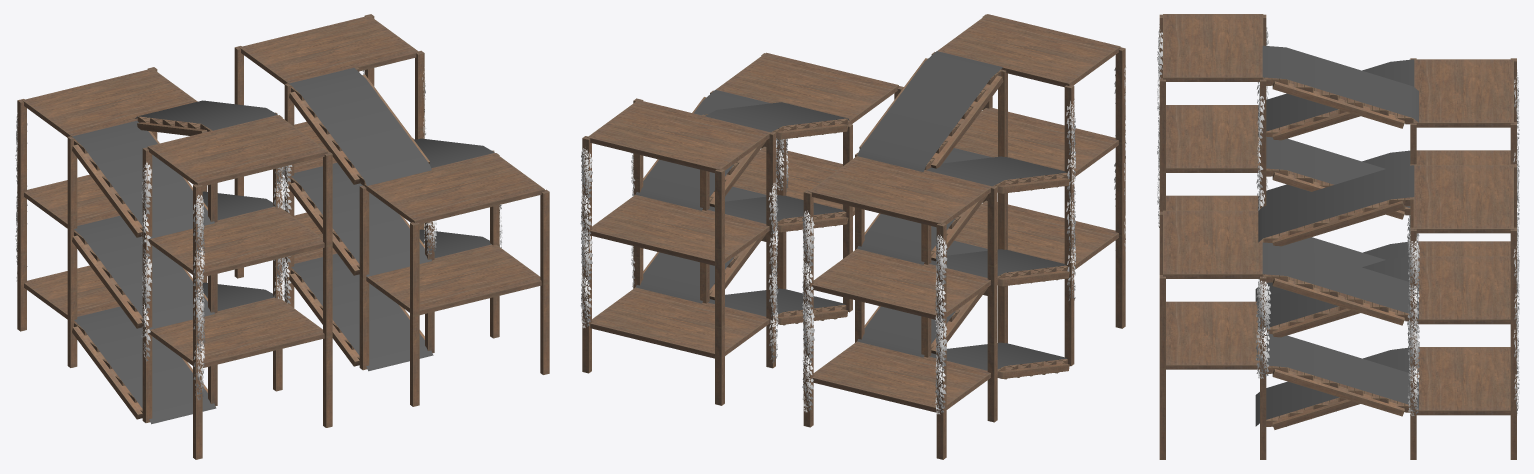
The model's file is Scaffolding_Stairs_A1_Height_1.fbx.
3 views of the same model, side by side, from view 1: azimuth 30°, elevation 25°; view 2: azimuth 150°, elevation 25°; view 3: azimuth 270°, elevation 25° (orthographic). The views are drawn at different scales.
Parts seen in each view (by area): view 1: Scaffolding_Stairs_A2_Height_1, Scaffolding_Stairs_A1_Height_1, Scaffolding_Ivy_A2, Scaffolding_Ivy_A1; view 2: Scaffolding_Stairs_A2_Height_1, Scaffolding_Stairs_A1_Height_1, Scaffolding_Ivy_A2, Scaffolding_Ivy_A1; view 3: Scaffolding_Stairs_A1_Height_1, Scaffolding_Stairs_A2_Height_1, Scaffolding_Ivy_A1, Scaffolding_Ivy_A2.
Part boxes in pixels (left/top/right/bottom): Scaffolding_Stairs_A2_Height_1: left=17, top=67, right=332, bottom=459; Scaffolding_Stairs_A1_Height_1: left=234, top=14, right=549, bottom=406; Scaffolding_Ivy_A2: left=15, top=113, right=285, bottom=399; Scaffolding_Ivy_A1: left=282, top=69, right=502, bottom=303; Scaffolding_Stairs_A2_Height_1: left=803, top=14, right=1125, bottom=459; Scaffolding_Stairs_A1_Height_1: left=582, top=52, right=903, bottom=405; Scaffolding_Ivy_A2: left=802, top=65, right=1126, bottom=414; Scaffolding_Ivy_A1: left=580, top=138, right=788, bottom=362; Scaffolding_Stairs_A1_Height_1: left=1159, top=164, right=1516, bottom=459; Scaffolding_Stairs_A2_Height_1: left=1159, top=14, right=1516, bottom=301; Scaffolding_Ivy_A1: left=1256, top=215, right=1519, bottom=415; Scaffolding_Ivy_A2: left=1157, top=24, right=1519, bottom=331.
Bounding box in the file's own units: 1678 × 1216 × 1447.
